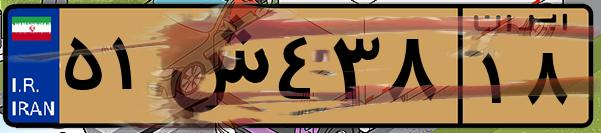1: (475, 38, 525, 113), (110, 28, 158, 98)
3: (330, 28, 385, 110)
4: (270, 28, 330, 110)
5: (57, 26, 110, 100)
8: (385, 28, 445, 110), (525, 38, 570, 115)
ش: (158, 12, 270, 120)
